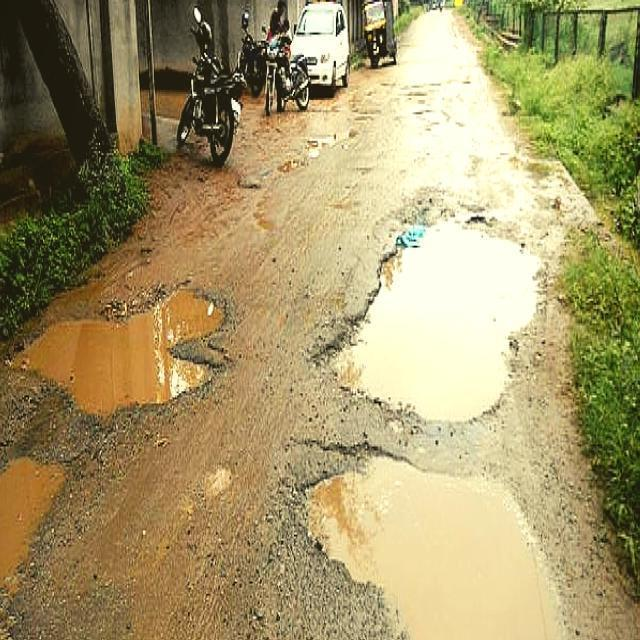Pothole: (309, 455, 560, 636), (338, 222, 539, 422), (21, 289, 221, 416), (435, 41, 515, 201), (0, 459, 62, 583)
